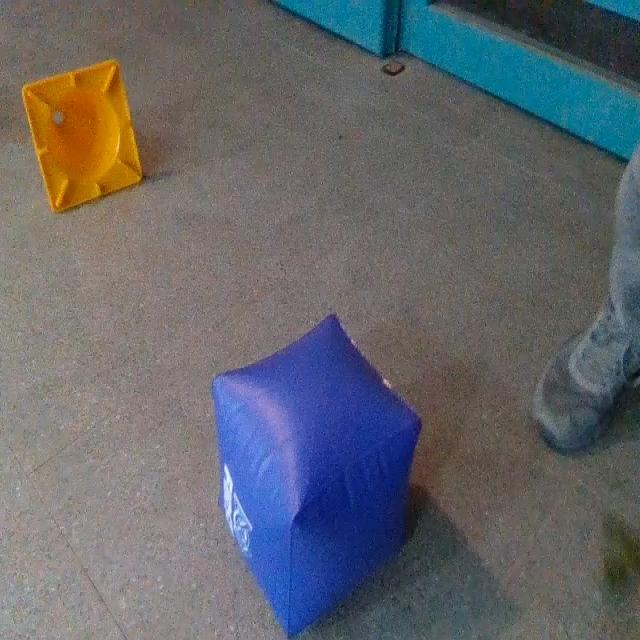cone: (22, 61, 150, 213)
cube: (215, 311, 412, 639)
